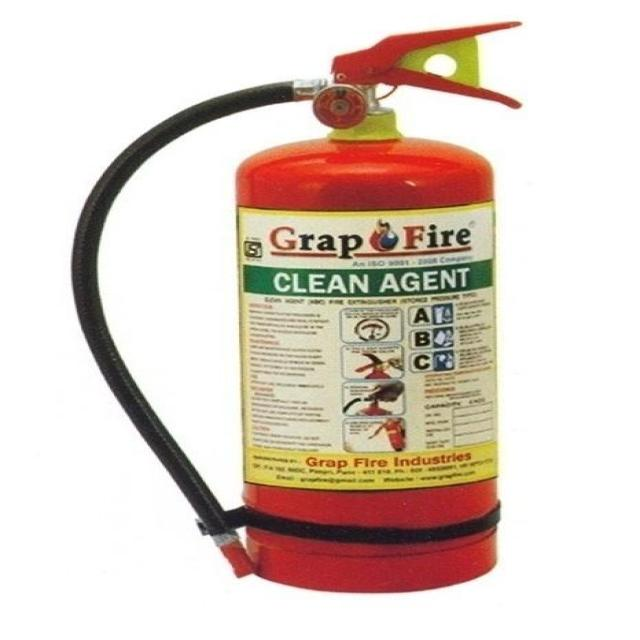fire_extinguisher: (50, 13, 527, 603)
